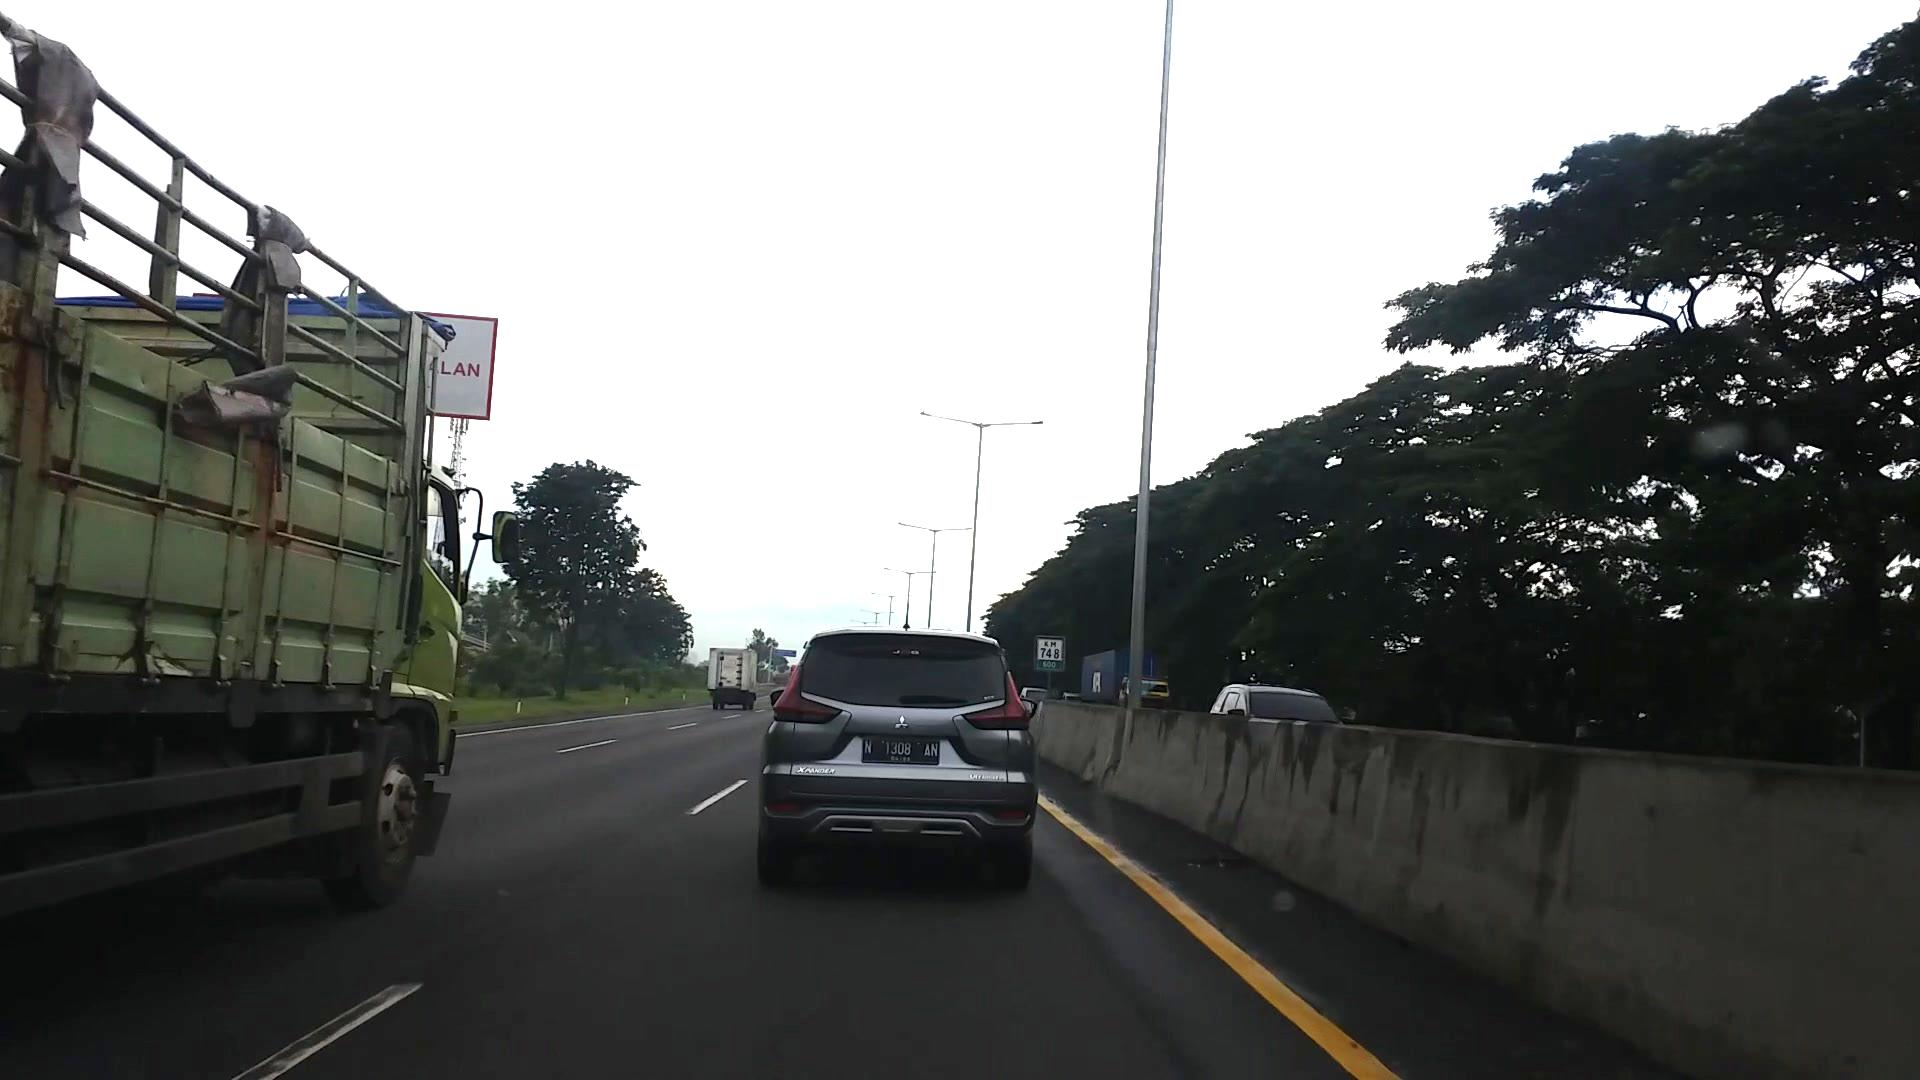plate_positive: (862, 736, 940, 765)
